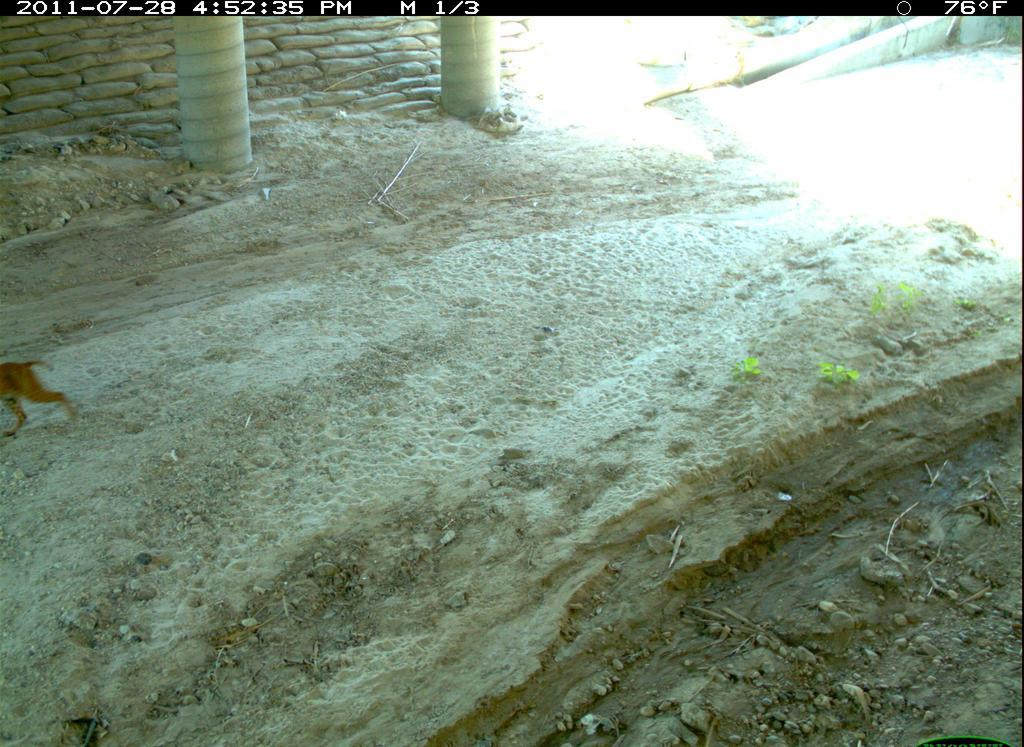bobcat: (6, 335, 90, 456)
